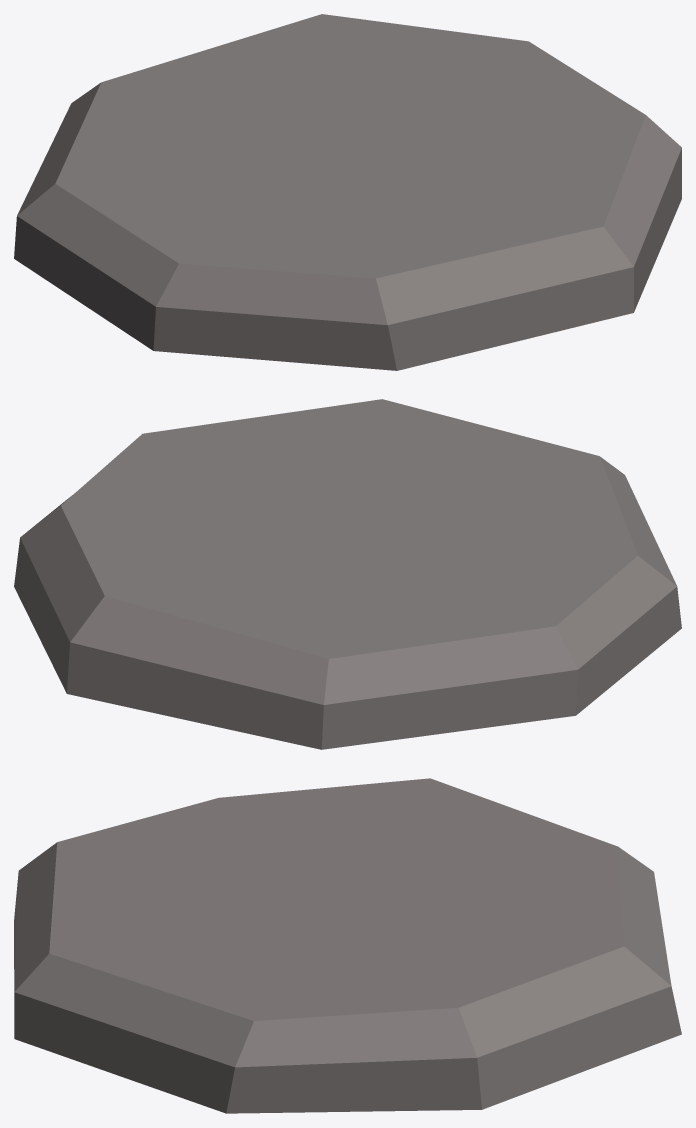
Rendered from Pressure_plate_top.fbx.
3 views of the same model, one above another, from view 1: azimuth 30°, elevation 25°; view 2: azimuth 150°, elevation 25°; view 3: azimuth 270°, elevation 25° (orthographic). The views are drawn at different scales.
Parts seen in each view (by area): view 1: Cylinder.001; view 2: Cylinder.001; view 3: Cylinder.001.
Boxes of the visible parts, x1=… form: Cylinder.001: x1=14, y1=14, x2=681, y2=370; Cylinder.001: x1=14, y1=399, x2=681, y2=749; Cylinder.001: x1=14, y1=778, x2=681, y2=1113.
Size of the model in its own units: 155 by 24.86 by 156.
Materials: 1 (1 with a texture image).
